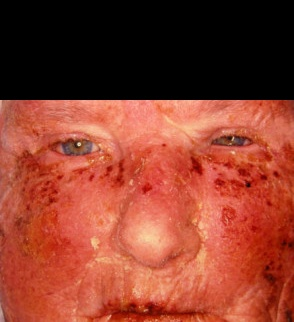SJS-TEN: (2, 137, 294, 322)
